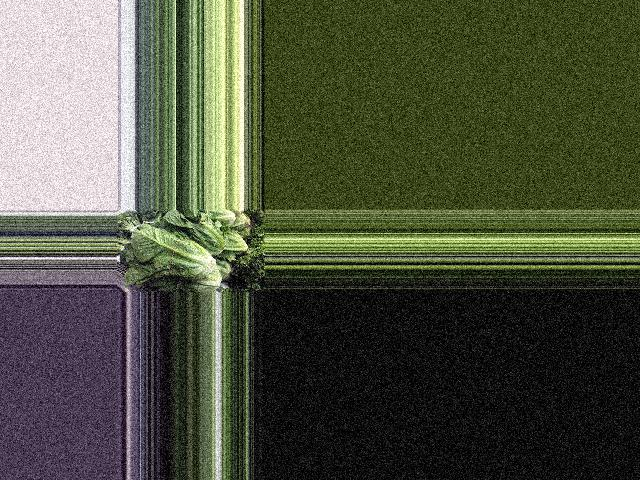lettuce: (161, 212, 227, 253)
